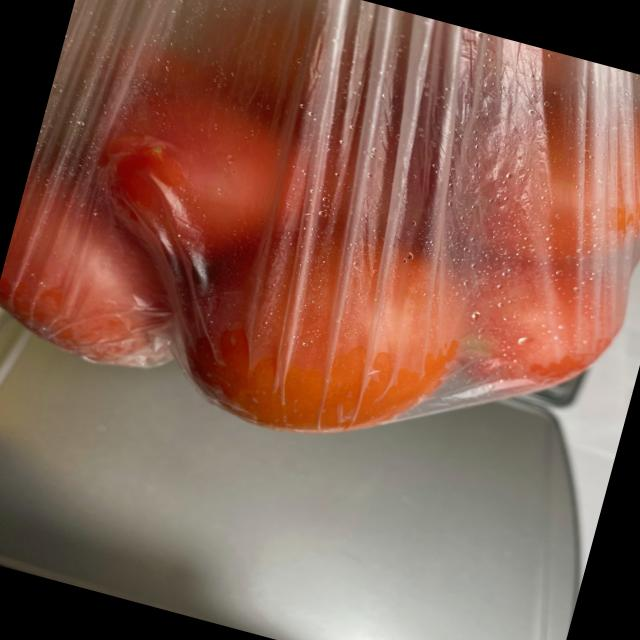tomato: (0, 0, 640, 511)
